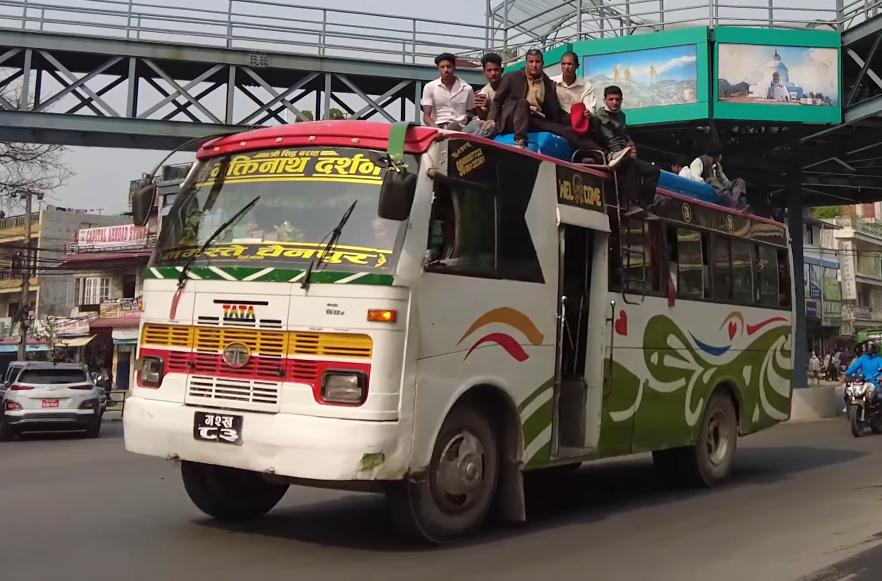bus: (122, 107, 805, 555)
